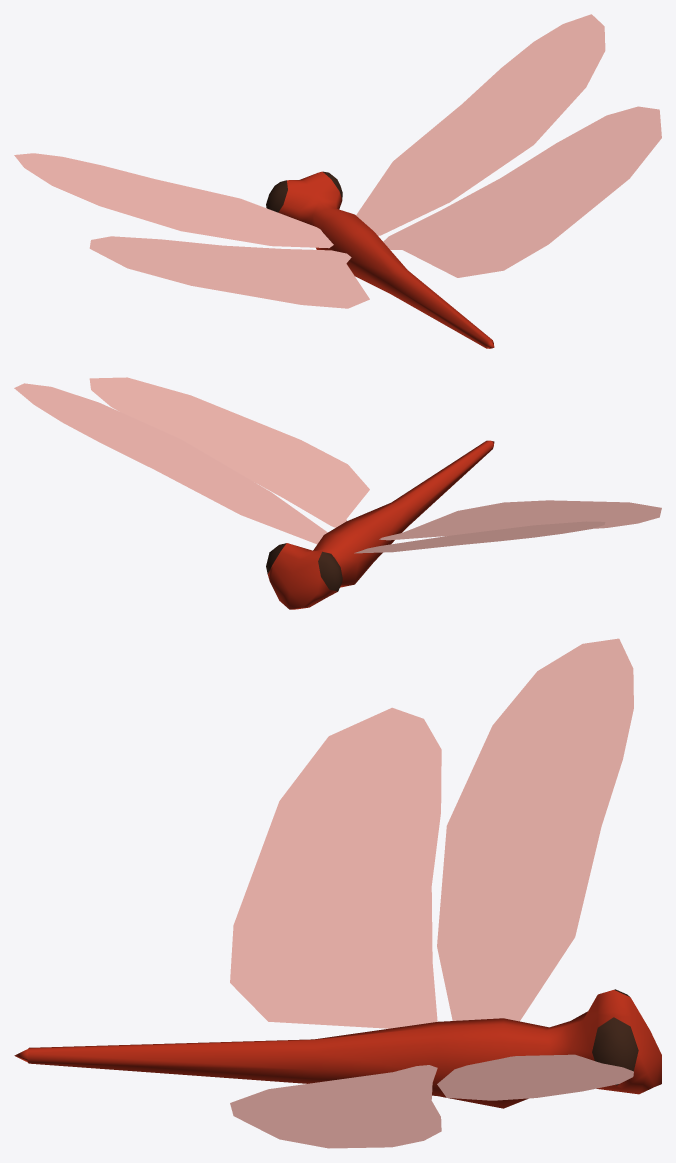
The model's file is dragonfly-red-assetquest.glb.
3 renders of one model, top to bottom at view 1: azimuth 30°, elevation 25°; view 2: azimuth 150°, elevation 25°; view 3: azimuth 270°, elevation 25°, orthographic. The views are drawn at different scales.
Visible parts, largest first — view 1: Dragonfly_2; view 2: Dragonfly_2; view 3: Dragonfly_2.
Part boxes in pixels (bbox=[...]): Dragonfly_2: bbox=[14, 14, 661, 348]; Dragonfly_2: bbox=[14, 377, 661, 609]; Dragonfly_2: bbox=[14, 638, 661, 1148].
Size of the model in its own units: 0.2399 by 0.0616 by 0.1468.
Materials: 1 (1 with a texture image).
